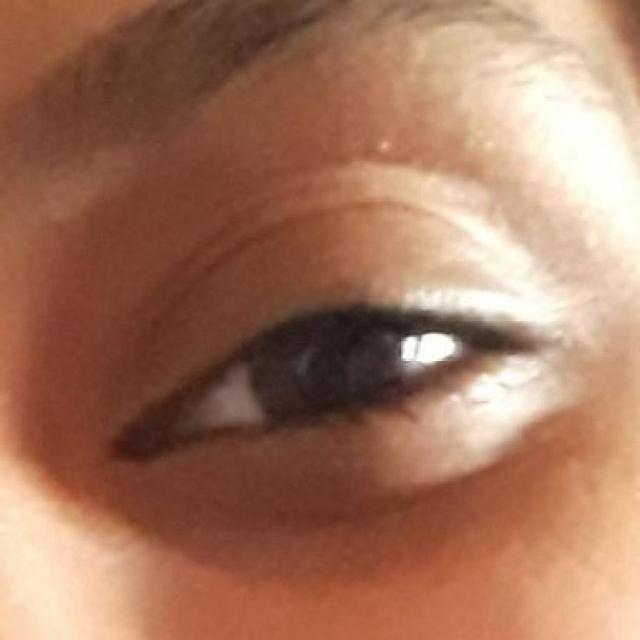awake: (121, 254, 550, 515)
